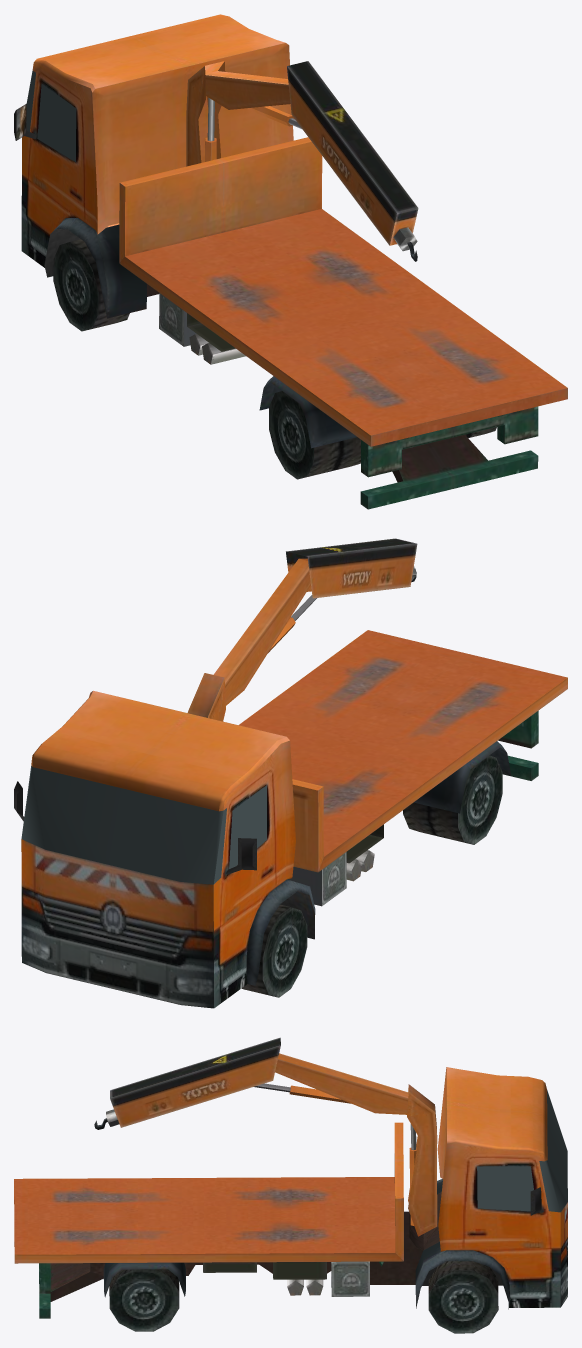
Rendered from p54_09_flatbed_crane_orange.glb.
3 views of the same model, one above another, from view 1: azimuth 30°, elevation 25°; view 2: azimuth 150°, elevation 25°; view 3: azimuth 270°, elevation 25° (orthographic). The views are drawn at different scales.
Visible parts, largest first — view 1: Body, Glass; view 2: Body, Glass; view 3: Body, Glass.
Boxes of the visible parts, box(x1,y1,x2,y2) form: Body: box(14, 14, 567, 509); Glass: box(26, 71, 76, 161); Body: box(14, 538, 567, 1008); Glass: box(21, 765, 266, 884); Body: box(14, 1037, 567, 1333); Glass: box(477, 1090, 567, 1212).
Size of the model in its own units: 2.74 by 3.58 by 7.07.
Materials: 2 (2 with a texture image).
